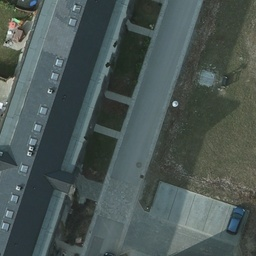car: (224, 205, 242, 236)
